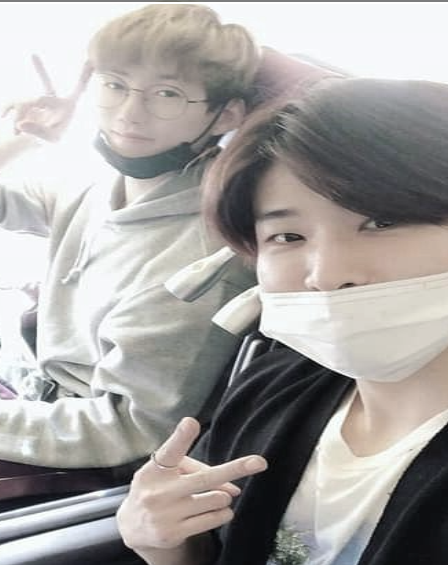mask_weared_incorrect: (228, 79, 447, 386), (79, 5, 255, 180)
